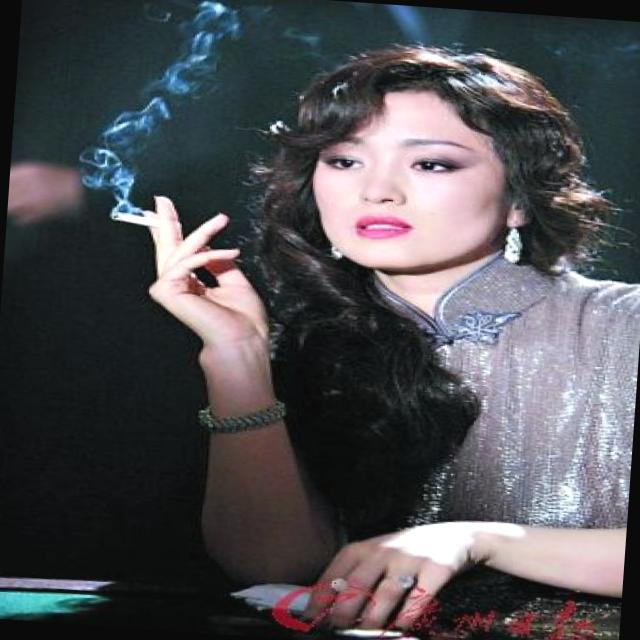cigarette: (105, 200, 176, 237)
